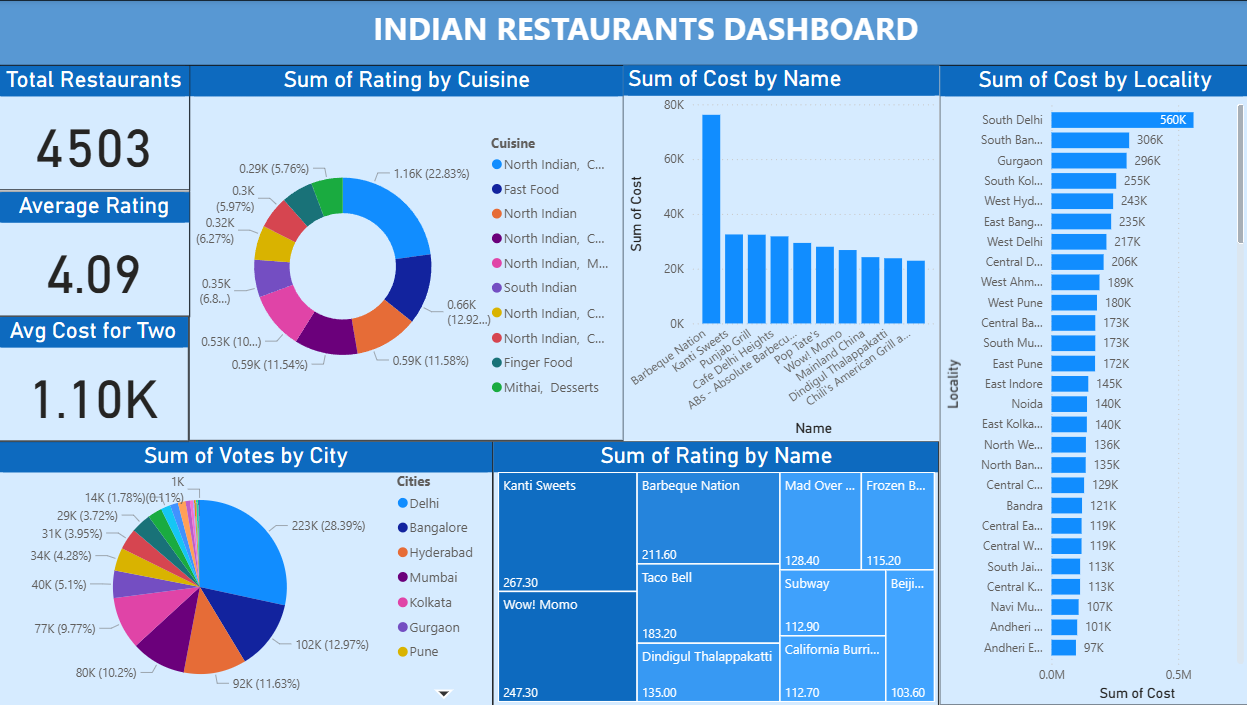

Layout of this report page (visuals, bound fields, positions):
{"tool":"powerbi","page":{"name":"Page 1","canvas":[1280,720],"ordinal":0},"visuals":[{"type":"treemap","fields":{"Group":["restaurants.Name"],"Values":["Sum(restaurants.Rating)"]},"box":[507.7,450.4,455.3,270.2],"z":0},{"type":"pieChart","fields":{"Category":["restaurants.City"],"Y":["Sum(restaurants.Votes)"]},"box":[1.6,450.4,506,270.2],"z":1000},{"type":"donutChart","fields":{"Category":["restaurants.Cuisine"],"Y":["Sum(restaurants.Rating)"]},"box":[196.5,67.1,443.8,383.2],"z":2000},{"type":"clusteredBarChart","fields":{"Category":["restaurants.Locality"],"Y":["Sum(restaurants.Cost)"]},"box":[962.9,67.1,316.1,653.4],"z":3000},{"type":"textbox","box":[1.6,0,1279,67.1],"z":4000},{"type":"card","title":"Average Rating","fields":{"Values":["Avg(restaurants.Rating)"]},"box":[0,194.9,198.2,127.7],"z":5000},{"type":"card","title":"Avg Cost for Two","fields":{"Values":["Avg(restaurants.Cost)"]},"box":[0,322.6,196.5,127.7],"z":6000},{"type":"clusteredColumnChart","fields":{"Category":["restaurants.Name"],"Y":["Sum(restaurants.Cost)"]},"box":[640.3,67.1,322.6,383.2],"z":7000},{"type":"card","title":"Total Restaurants","fields":{"Values":["Count(restaurants.Name)"]},"box":[0,67.1,198.2,127.7],"z":8000}]}

Visuals, with their boxes in screenshot pixels (x1, y1, x2, y2), scaled from the page's 1280x720 canvas onto the 1247x705 screenshot:
treemap - restaurants.Name x Sum(restaurants.Rating): <box>495,441,938,704</box>
pieChart - restaurants.City x Sum(restaurants.Votes): <box>2,441,495,704</box>
donutChart - restaurants.Cuisine x Sum(restaurants.Rating): <box>191,66,624,441</box>
clusteredBarChart - restaurants.Locality x Sum(restaurants.Cost): <box>938,66,1246,704</box>
textbox: <box>2,0,1246,66</box>
"Average Rating" card: <box>0,191,193,316</box>
"Avg Cost for Two" card: <box>0,316,191,441</box>
clusteredColumnChart - restaurants.Name x Sum(restaurants.Cost): <box>624,66,938,441</box>
"Total Restaurants" card: <box>0,66,193,191</box>
